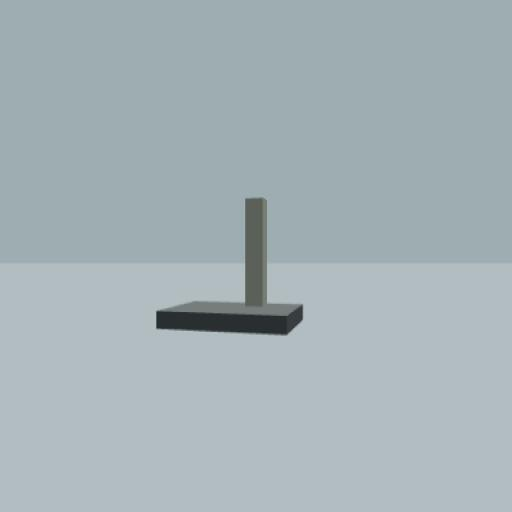platform: (156, 197, 304, 338)
